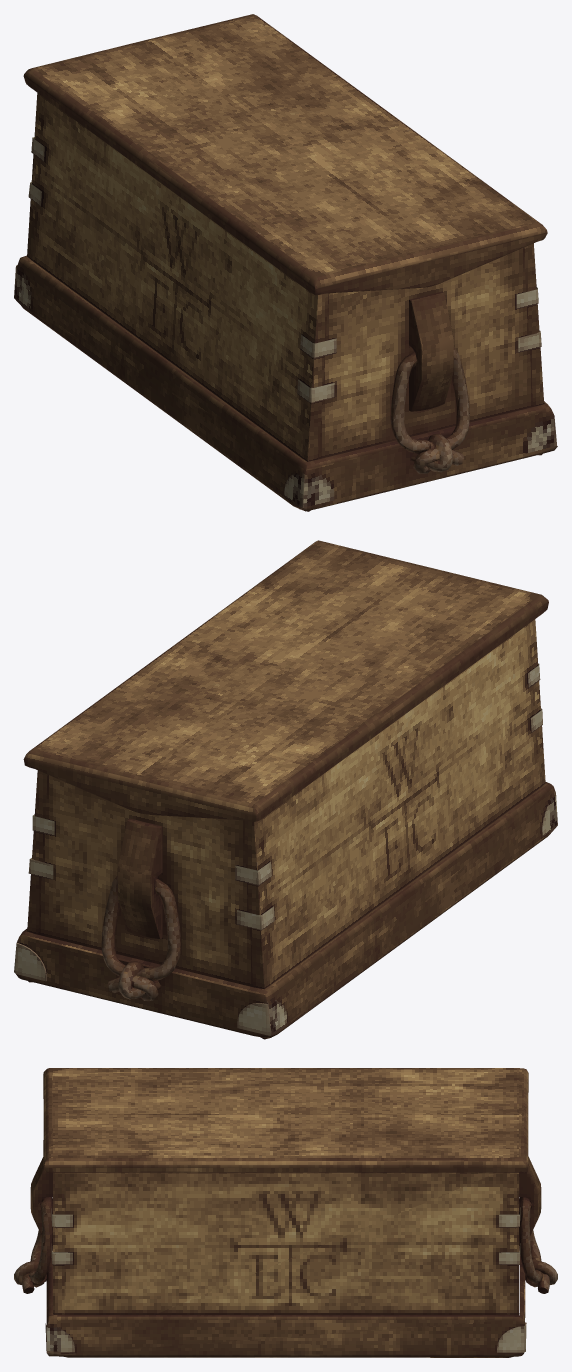
The model's file is wooden_crate_02.glb.
The picture shows the model from 3 angles, top to bottom: view 1: azimuth 30°, elevation 25°; view 2: azimuth 150°, elevation 25°; view 3: azimuth 270°, elevation 25°; orthographic projection. The views are drawn at different scales.
Visible parts, largest first — view 1: body; view 2: body; view 3: body.
Part boxes in pixels (left/top/right/bottom): body: left=14, top=14, right=557, bottom=511; body: left=14, top=540, right=557, bottom=1039; body: left=14, top=1068, right=557, bottom=1357.
Bounding box in the file's own units: 0.5292 × 0.464 × 1.17.
Materials: 1 (1 with a texture image).
